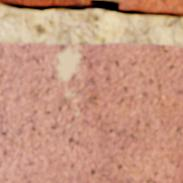brick: (0, 42, 182, 182), (120, 0, 182, 13), (0, 0, 89, 5)
crack: (0, 0, 182, 16)
